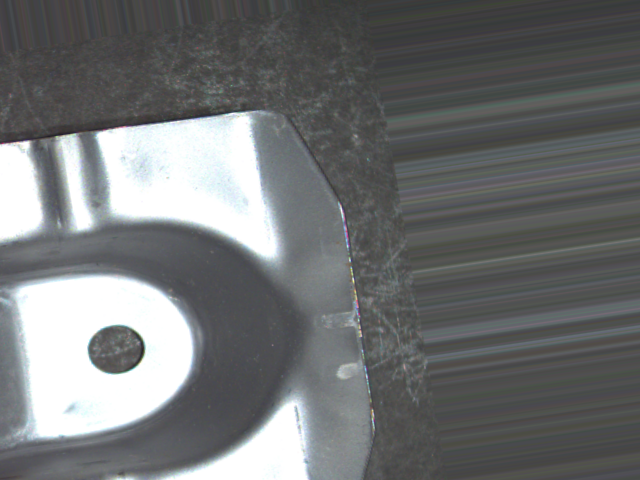defect: (84, 322, 151, 376)
